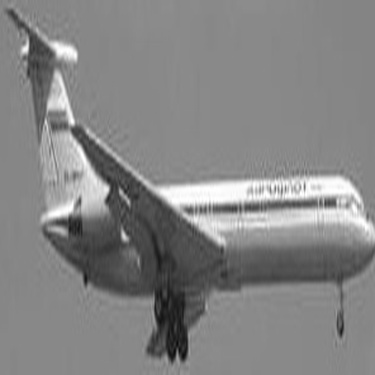airplane: (3, 1, 368, 369)
